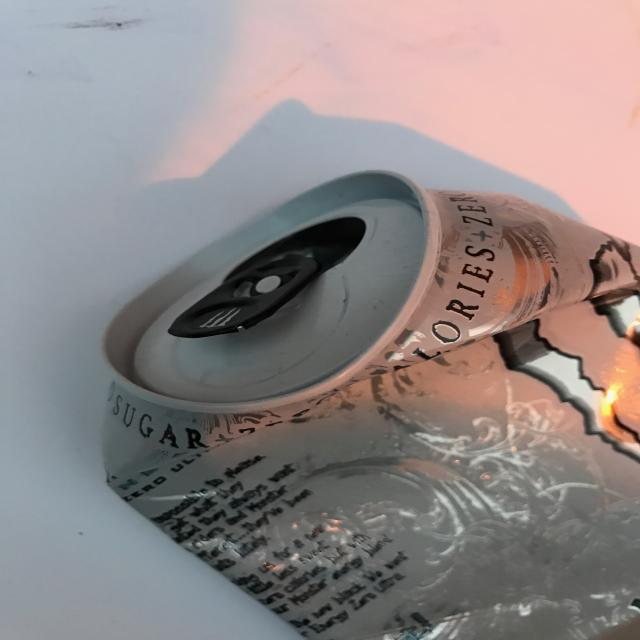metal: (96, 167, 640, 640)
